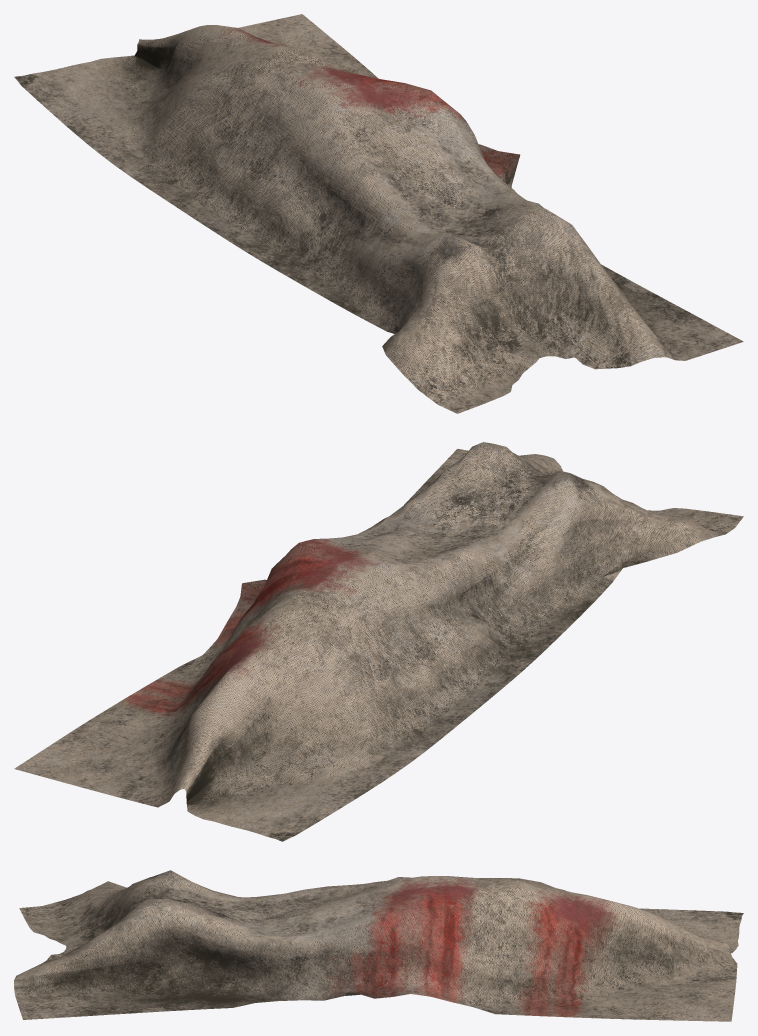
Rendered from dead_body (1).glb.
3 renders of one model, top to bottom at view 1: azimuth 30°, elevation 25°; view 2: azimuth 150°, elevation 25°; view 3: azimuth 270°, elevation 25°, orthographic. The views are drawn at different scales.
Visible parts, largest first — view 1: corps; view 2: corps; view 3: corps.
Part boxes in pixels (x1=…): corps: x1=14, y1=14, x2=743, y2=413; corps: x1=14, y1=442, x2=743, y2=841; corps: x1=14, y1=870, x2=743, y2=1021.
Size of the model in its own units: 0.9026 by 0.2852 by 2.34.
1 material, 1 textured.
